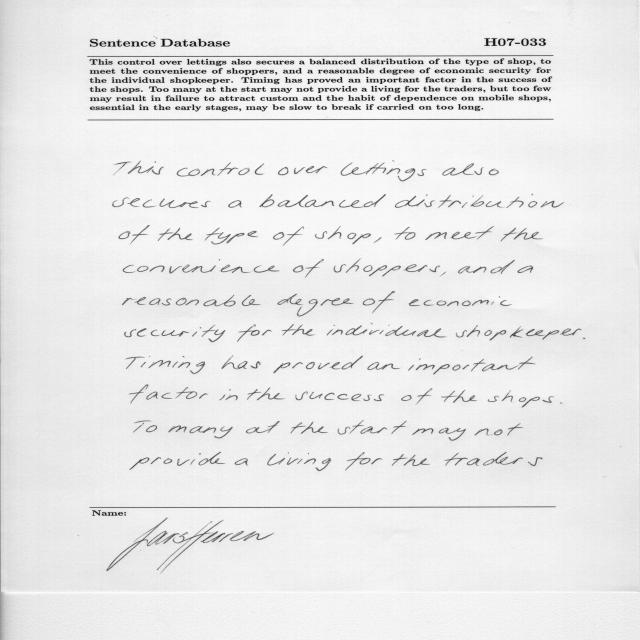word: (395, 194, 564, 208), (408, 357, 536, 375), (123, 259, 280, 273), (456, 325, 581, 340), (334, 259, 440, 276), (341, 161, 426, 182), (259, 194, 386, 208), (278, 294, 354, 317), (130, 452, 225, 470), (125, 325, 225, 342), (327, 324, 446, 338), (273, 356, 363, 373), (123, 295, 261, 306), (129, 385, 208, 404), (126, 356, 205, 374), (444, 452, 543, 466), (177, 163, 264, 177), (267, 452, 331, 471), (488, 390, 554, 408), (113, 197, 211, 208), (409, 296, 512, 306), (315, 226, 371, 244), (338, 421, 407, 435), (426, 226, 494, 240), (205, 228, 258, 245), (168, 426, 233, 439), (295, 392, 384, 401), (458, 260, 515, 274), (442, 163, 499, 176), (346, 452, 383, 471), (412, 428, 466, 441), (116, 161, 164, 175), (363, 292, 395, 313), (475, 423, 523, 436), (237, 325, 272, 342), (273, 227, 304, 246), (293, 259, 324, 278), (119, 225, 149, 244), (501, 228, 543, 241), (402, 388, 433, 405), (222, 356, 261, 369), (247, 387, 285, 400), (290, 421, 328, 434), (158, 227, 193, 241), (441, 390, 477, 403), (392, 454, 430, 466), (278, 166, 327, 175), (246, 421, 280, 433), (282, 324, 315, 336), (134, 421, 157, 433), (368, 362, 401, 370), (395, 227, 415, 240), (219, 390, 238, 401), (228, 200, 242, 208), (518, 266, 534, 273), (235, 459, 248, 466), (374, 237, 381, 243), (440, 272, 446, 276), (583, 337, 585, 339), (560, 402, 562, 404)
